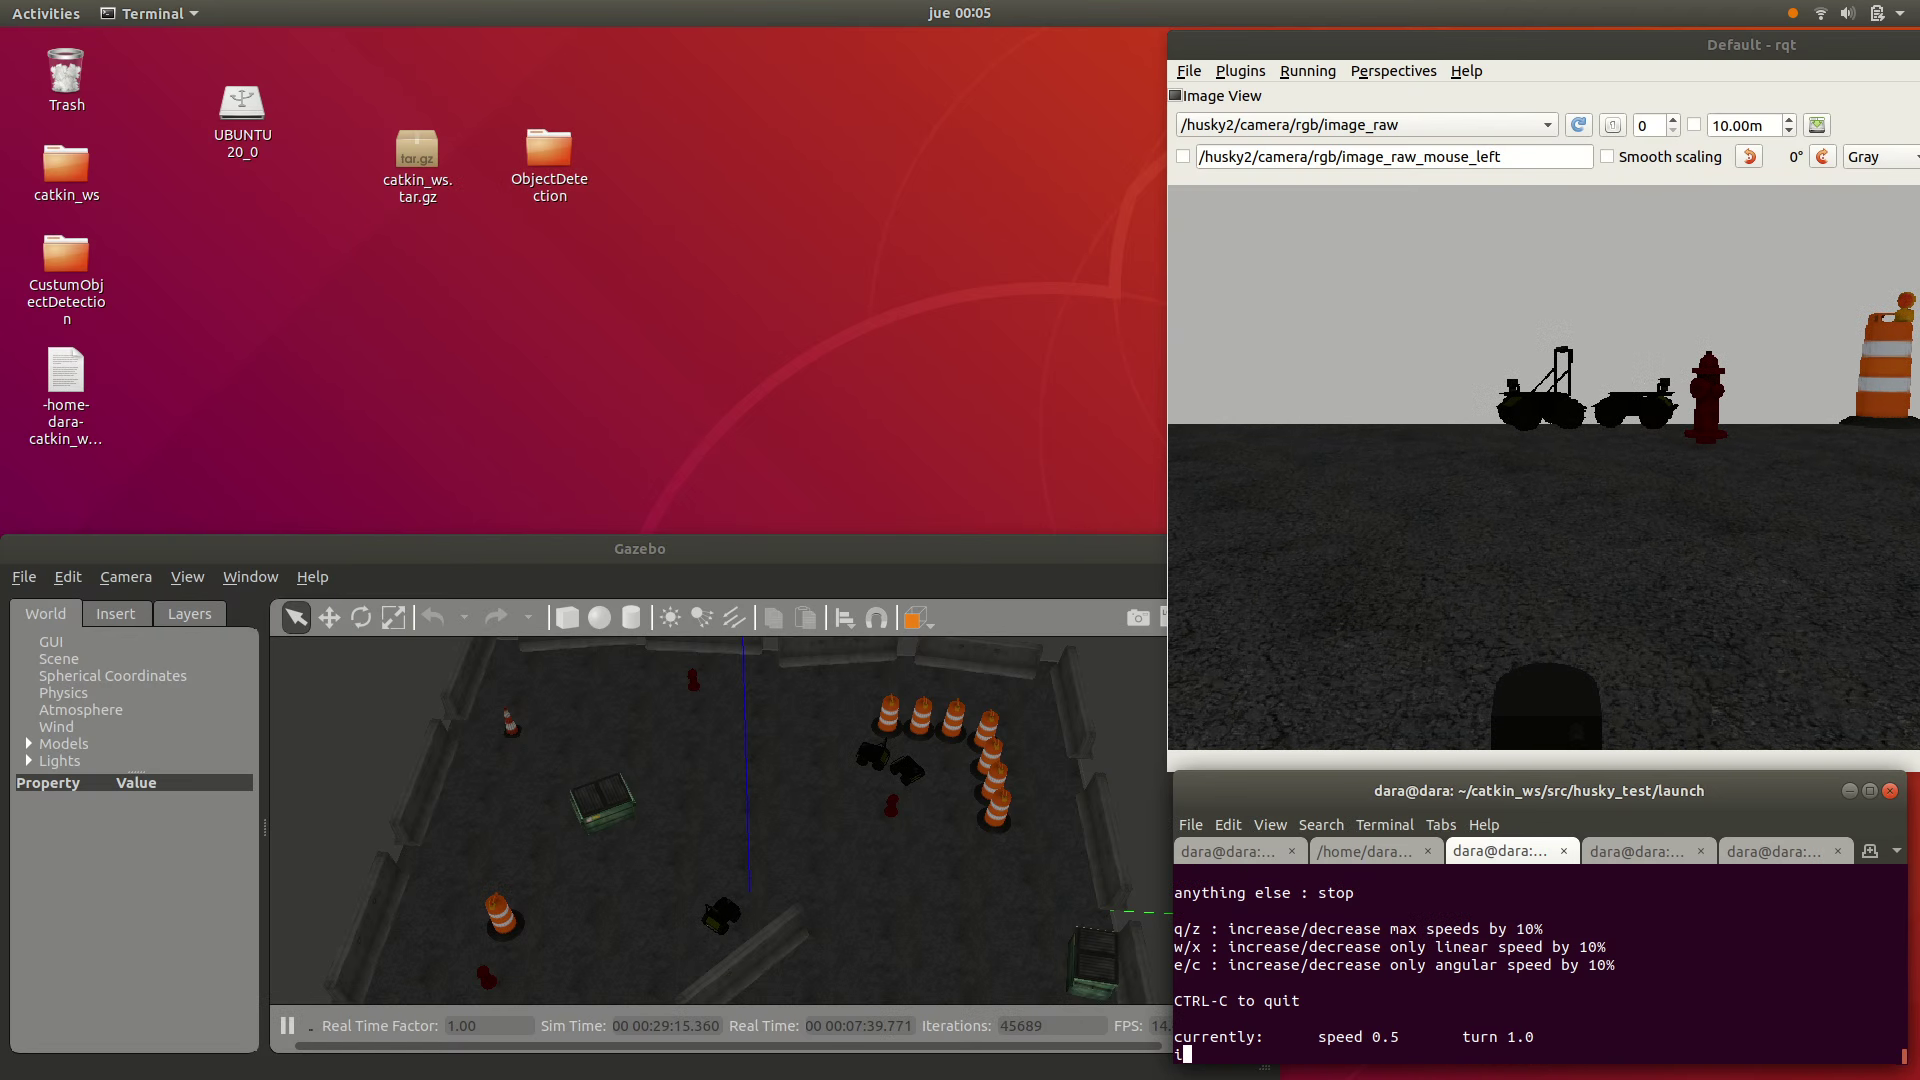husky: (1497, 392, 1586, 430), (1592, 392, 1678, 427), (702, 897, 740, 936), (892, 756, 927, 784), (856, 740, 889, 769)
